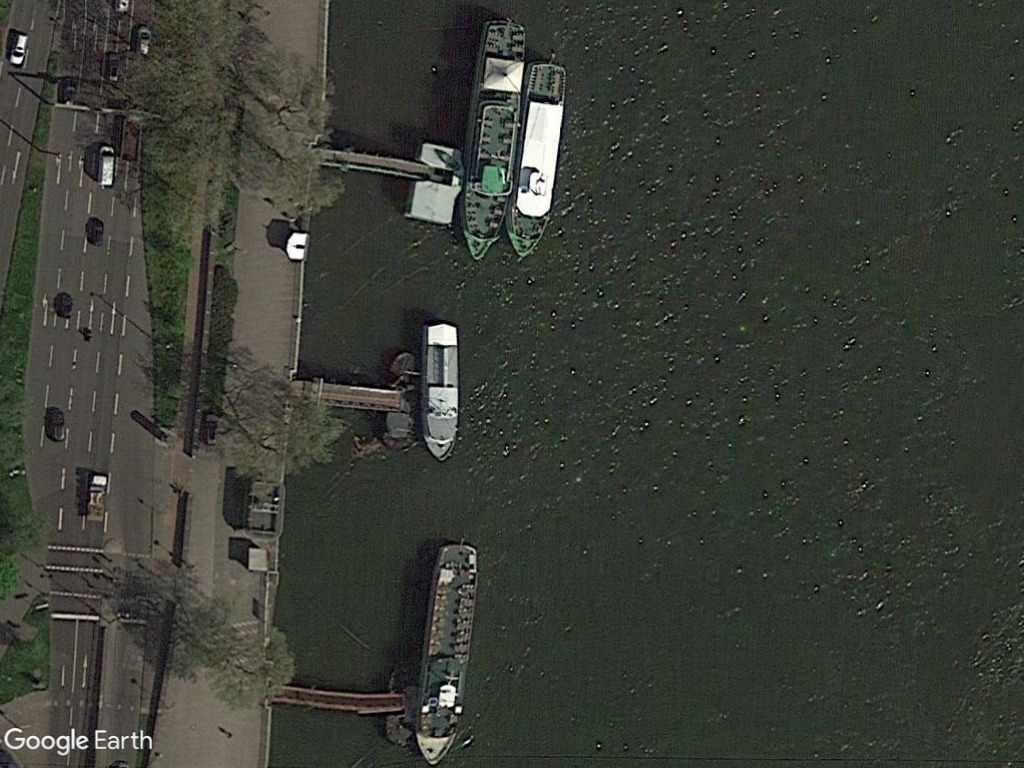boat: (456, 13, 530, 261), (409, 540, 484, 764), (511, 57, 565, 257), (414, 315, 463, 465)
van: (92, 142, 116, 191)
